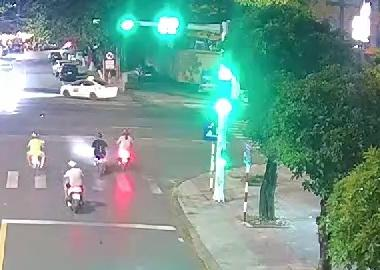green_light: (155, 16, 183, 35), (212, 96, 233, 116), (117, 15, 138, 34)
stop_line: (2, 218, 176, 230)
